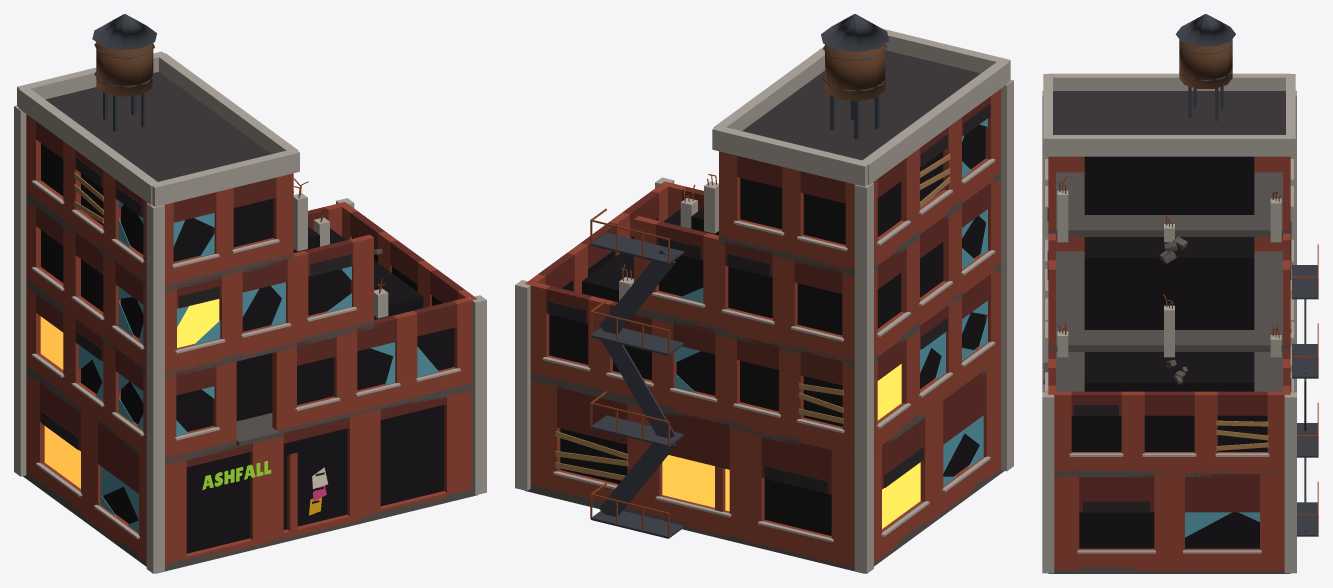
Rendered from city_building_shell_a.glb.
The picture shows the model from 3 angles, left to right: view 1: azimuth 30°, elevation 25°; view 2: azimuth 150°, elevation 25°; view 3: azimuth 270°, elevation 25°; orthographic projection. The views are drawn at different scales.
Parts seen in each view (by area): view 1: ShellA; view 2: ShellA; view 3: ShellA.
Boxes of the visible parts, bbox=[...] form: ShellA: bbox=[14, 14, 486, 573]; ShellA: bbox=[515, 14, 1013, 573]; ShellA: bbox=[1042, 14, 1318, 573].
Bounding box in the file's own units: 14.5 × 20.1 × 11.41.
